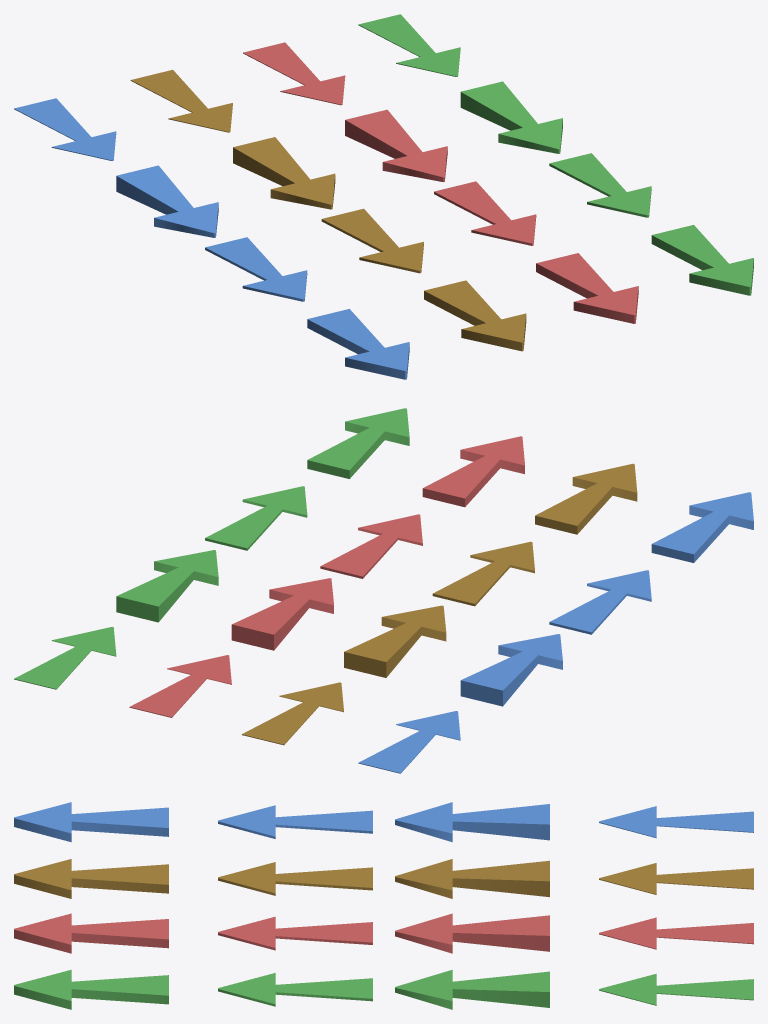
Rendered from ARROW.fbx.
The picture shows the model from 3 angles, top to bottom: view 1: azimuth 30°, elevation 25°; view 2: azimuth 150°, elevation 25°; view 3: azimuth 270°, elevation 25°; orthographic projection.
Parts seen in each view (by area): view 1: pCube4, pCube12, pCube8, pCube16, pCube6, pCube2, pCube14, pCube10, pCube15, pCube11, pCube7, pCube3 (+4 smaller); view 2: pCube4, pCube16, pCube8, pCube12, pCube6, pCube2, pCube10, pCube14, pCube11, pCube15, pCube3, pCube7 (+4 smaller); view 3: pCube4, pCube12, pCube16, pCube8, pCube10, pCube14, pCube2, pCube6, pCube11, pCube15, pCube7, pCube3 (+4 smaller).
Boxes of the visible parts, left/top/right/bottom form: pCube4: left=345, top=109, right=447, bottom=181; pCube12: left=460, top=81, right=562, bottom=153; pCube8: left=233, top=137, right=335, bottom=209; pCube16: left=116, top=165, right=218, bottom=237; pCube6: left=424, top=280, right=526, bottom=351; pCube2: left=536, top=253, right=638, bottom=323; pCube14: left=307, top=309, right=409, bottom=379; pCube10: left=651, top=225, right=753, bottom=295; pCube15: left=205, top=237, right=307, bottom=301; pCube11: left=549, top=153, right=651, bottom=217; pCube7: left=321, top=208, right=423, bottom=273; pCube3: left=434, top=181, right=536, bottom=245; pCube4: left=231, top=578, right=333, bottom=650; pCube16: left=460, top=634, right=562, bottom=706; pCube8: left=344, top=605, right=446, bottom=677; pCube12: left=116, top=550, right=218, bottom=622; pCube6: left=535, top=463, right=637, bottom=534; pCube2: left=422, top=436, right=524, bottom=507; pCube10: left=307, top=408, right=409, bottom=478; pCube14: left=651, top=492, right=753, bottom=562; pCube11: left=205, top=486, right=307, bottom=550; pCube15: left=549, top=570, right=651, bottom=634; pCube3: left=320, top=514, right=422, bottom=578; pCube7: left=432, top=541, right=534, bottom=606; pCube4: left=395, top=913, right=549, bottom=953; pCube12: left=395, top=969, right=549, bottom=1009; pCube16: left=395, top=802, right=549, bottom=842; pCube8: left=395, top=859, right=549, bottom=898; pCube10: left=14, top=969, right=168, bottom=1009; pCube14: left=14, top=802, right=168, bottom=842; pCube2: left=14, top=913, right=168, bottom=953; pCube6: left=14, top=859, right=168, bottom=898; pCube11: left=218, top=973, right=372, bottom=1006; pCube15: left=218, top=805, right=372, bottom=838; pCube7: left=218, top=862, right=372, bottom=895; pCube3: left=218, top=916, right=372, bottom=950.
Size of the model in its own units: 56.79 by 2.12 by 89.19.
